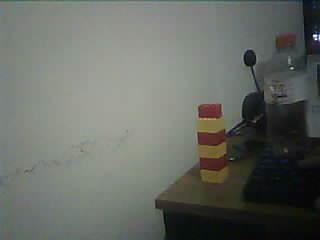lego: (196, 103, 230, 184)
